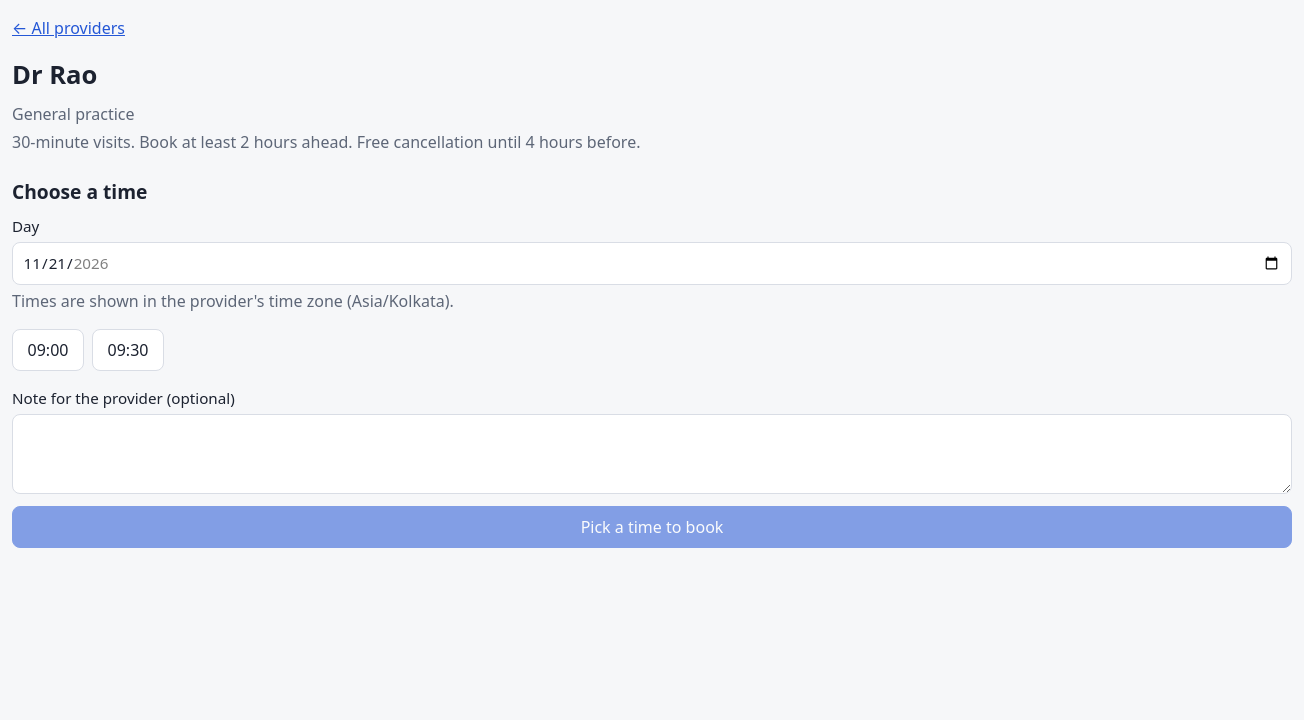
Test case: ProviderPage booking › lists slots in the provider's zone and books the chosen one
The image size is (1304, 720).
Check: the button "09:30" is shown, box [92, 329, 164, 371]
Check: the button "Pick a time to book" is disabled, box [12, 506, 1292, 548]
Click the button "09:00". click: (48, 350)
box: [12, 329, 84, 371]
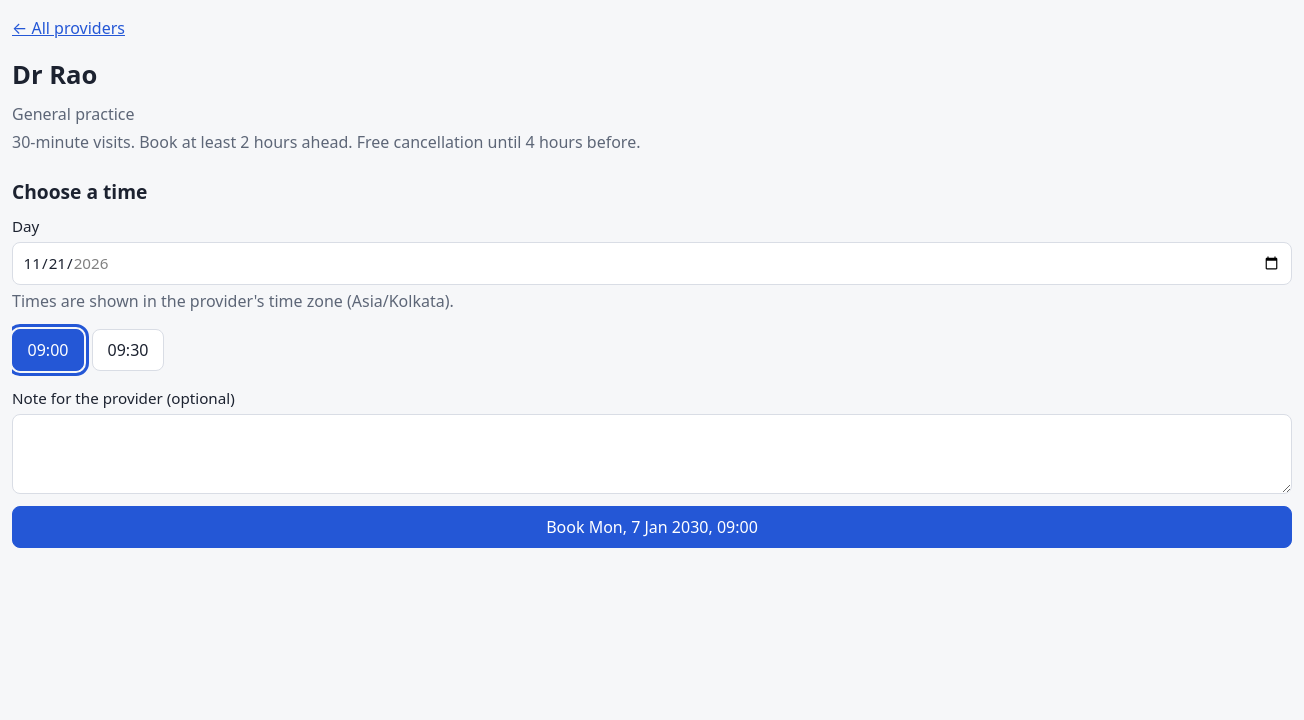
Type "First visit" into the text box labelled "Note for the provider (optional)". click: (652, 454)
box: [12, 414, 1292, 494]
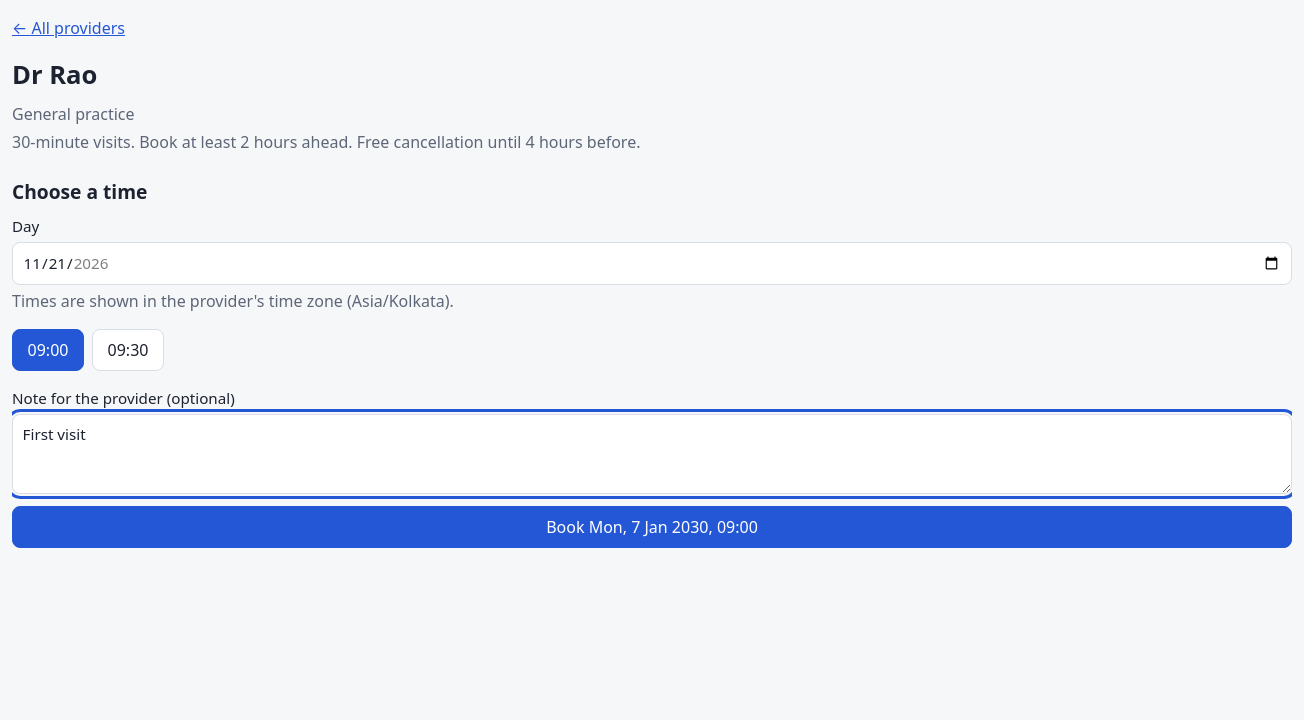
Click the button "Book Mon, 7 Jan 2030, 09:00". click: (652, 527)
box: [12, 506, 1292, 548]
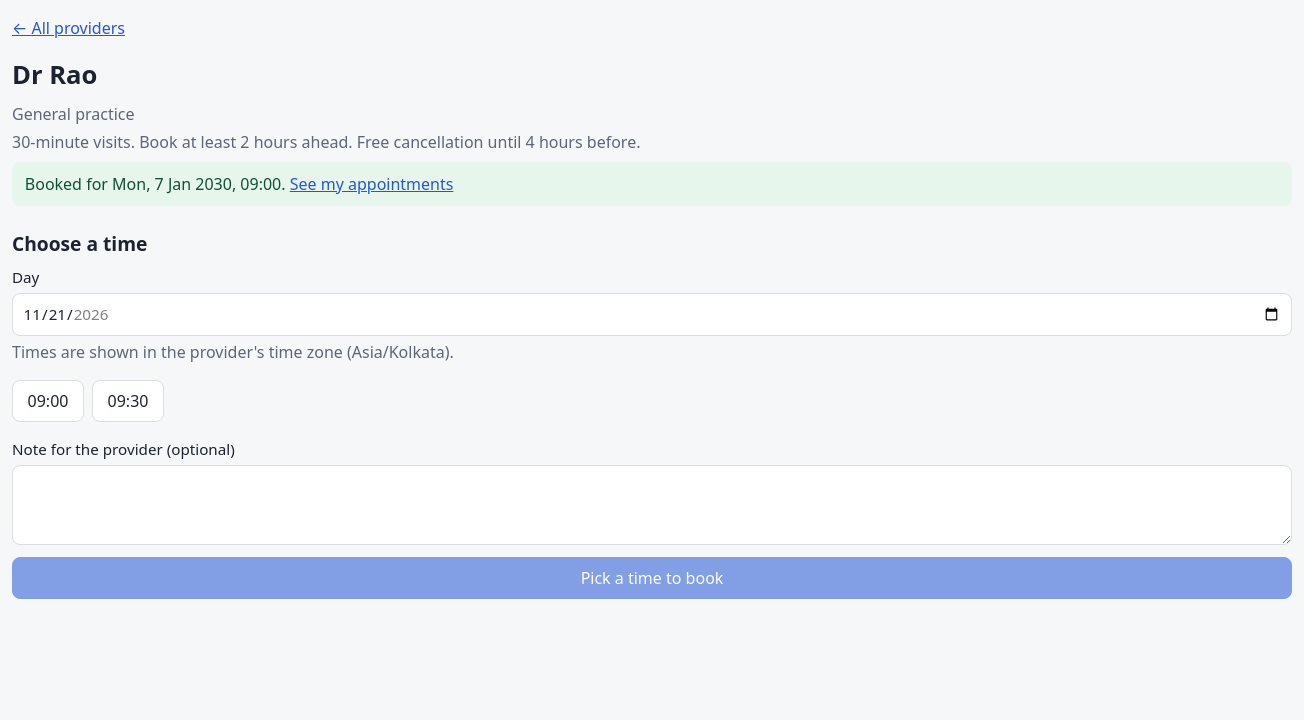
Check: the message shows "Booked for", box [25, 173, 112, 195]
